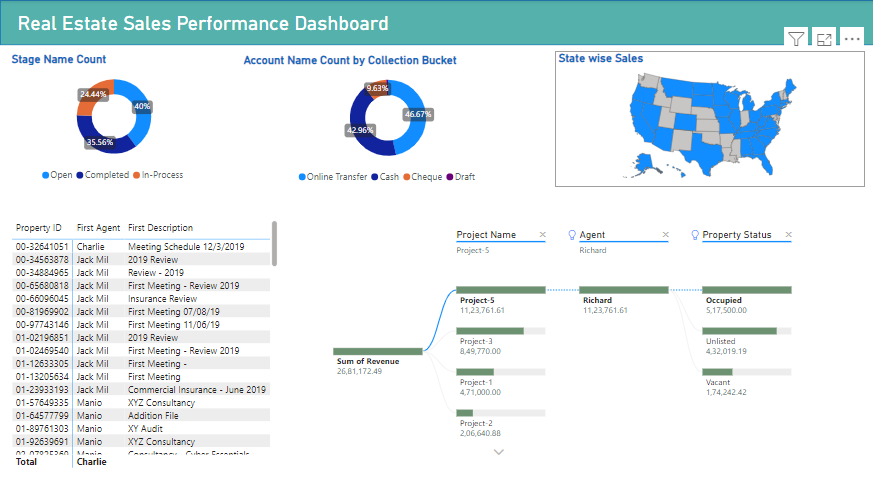

This screenshot's page, from the dashboard's own definition file:
{"tool":"powerbi","page":{"name":"Details Page","canvas":[1280,720],"ordinal":1},"visuals":[{"type":"shape","box":[0,0,1280.2,66.2],"z":0},{"type":"textbox","box":[0,11.7,594.1,43.9],"z":1},{"type":"donutChart","title":"Stage Name Count","fields":{"Category":["Power BI Data Set Demo xlsx - Real Estate Data.Stage Name"],"Y":["CountNonNull(Power BI Data Set Demo xlsx - Real Estate Data.Stage Name)"]},"box":[11.7,76.1,310.2,199],"z":2},{"type":"donutChart","title":"Account Name Count by Collection Bucket","fields":{"Y":["CountNonNull(Power BI Data Set Demo xlsx - Real Estate Data.Account Name)"],"Category":["Power BI Data Set Demo xlsx - Real Estate Data.Collection Bucket"]},"box":[350.9,77,433.2,200],"z":3},{"type":"shapeMap","title":"State wise Sales","fields":{"Category":["Power BI Data Set Demo xlsx - Real Estate Data.State"],"Series":["Power BI Data Set Demo xlsx - Real Estate Data.Sales"]},"box":[812.8,75.2,452.9,198.7],"z":4},{"type":"pivotTable","fields":{"Rows":["Power BI Data Set Demo xlsx - Real Estate Data.Property ID"],"Values":["Min(Power BI Data Set Demo xlsx - Real Estate Data.Agent)","Min(Power BI Data Set Demo xlsx - Real Estate Data.Description)"]},"box":[13.2,317.6,398,371.7],"z":5},{"type":"decompositionTreeVisual","fields":{"Analyze":["Sum(Power BI Data Set Demo xlsx - Real Estate Data.Revenue)"],"ExplainBy":["Power BI Data Set Demo xlsx - Real Estate Data.Project Name","Power BI Data Set Demo xlsx - Real Estate Data.Agent","Power BI Data Set Demo xlsx - Real Estate Data.Property Status"]},"box":[458,317.6,806.3,371.7],"z":6}]}

Visuals, with their boxes in screenshot pixels (x1, y1, x2, y2), scaled from the page's 1280x720 canvas onto the 873x489 screenshot:
shape: Rect(0, 0, 872, 45)
textbox: Rect(0, 8, 405, 38)
"Stage Name Count" donutChart: Rect(8, 52, 220, 187)
"Account Name Count by Collection Bucket" donutChart: Rect(239, 52, 535, 188)
"State wise Sales" shapeMap: Rect(554, 51, 863, 186)
pivotTable - Power BI Data Set Demo xlsx - Real Estate Data.Property ID x Min(Power BI Data Set Demo xlsx - Real Estate Data.Agent): Rect(9, 216, 280, 468)
decompositionTreeVisual - Sum(Power BI Data Set Demo xlsx - Real Estate Data.Revenue) x Power BI Data Set Demo xlsx - Real Estate Data.Project Name: Rect(312, 216, 862, 468)
